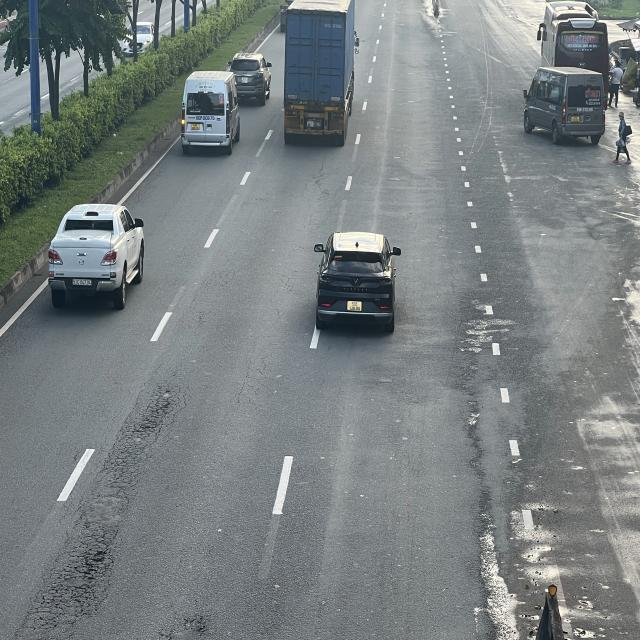car: (45, 201, 145, 307), (314, 233, 401, 333), (228, 52, 272, 107)
coach: (536, 5, 610, 100)
container: (282, 1, 360, 148)
van: (519, 65, 609, 143), (182, 68, 241, 154)
